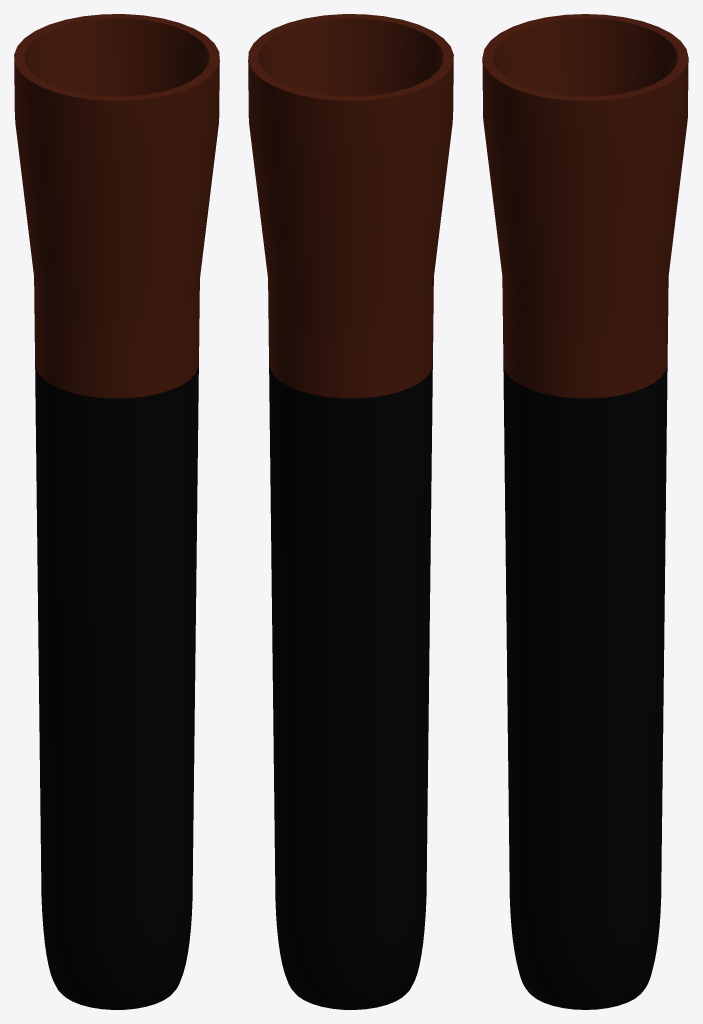
The model's file is cosmaticbrushHandle.fbx.
3 views of the same model, side by side, from view 1: azimuth 30°, elevation 25°; view 2: azimuth 150°, elevation 25°; view 3: azimuth 270°, elevation 25° (orthographic).
Parts seen in each view (by area): view 1: Cylinder; view 2: Cylinder; view 3: Cylinder.
Boxes of the visible parts, left/top/right/bottom form: Cylinder: left=14, top=14, right=219, bottom=1009; Cylinder: left=248, top=14, right=453, bottom=1009; Cylinder: left=482, top=14, right=688, bottom=1009.
Bounding box in the file's own units: 99.13 × 493 × 99.13.
